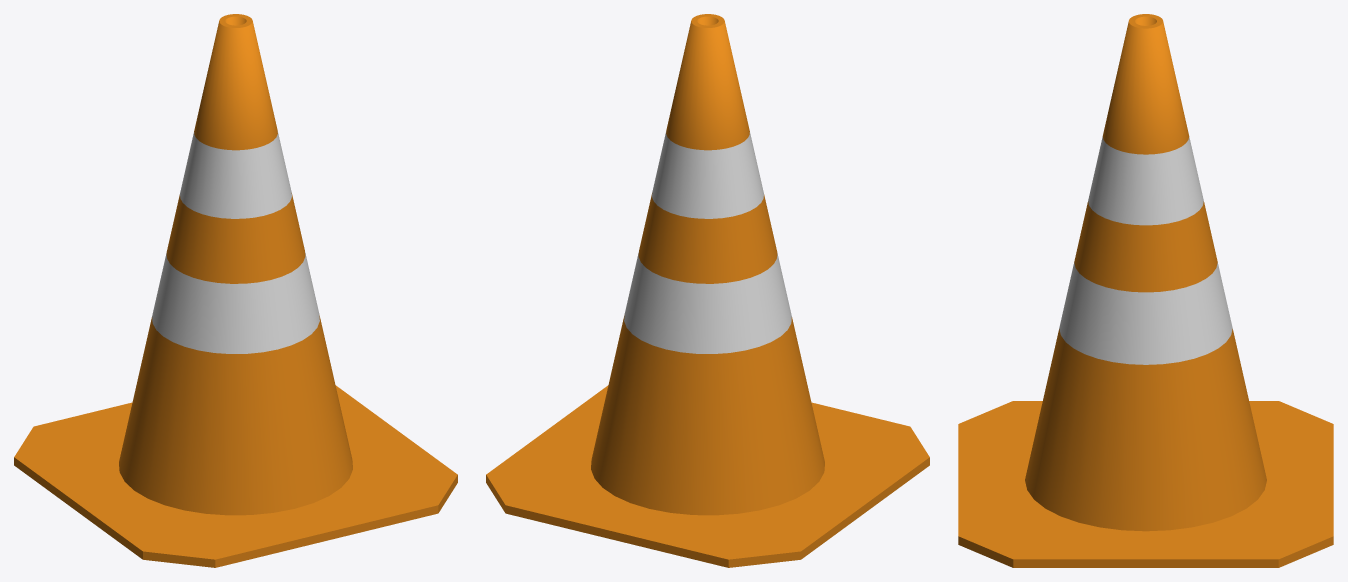
File: roadcone.fbx
The picture shows the model from 3 angles, left to right: view 1: azimuth 30°, elevation 25°; view 2: azimuth 150°, elevation 25°; view 3: azimuth 270°, elevation 25°; orthographic projection. The views are drawn at different scales.
Visible parts, largest first — view 1: Roadcone; view 2: Roadcone; view 3: Roadcone.
Part boxes in pixels (bbox=[...]): Roadcone: bbox=[14, 14, 457, 567]; Roadcone: bbox=[486, 14, 929, 567]; Roadcone: bbox=[958, 14, 1333, 567].
Size of the model in its own units: 30.61 by 42.1 by 30.61.
